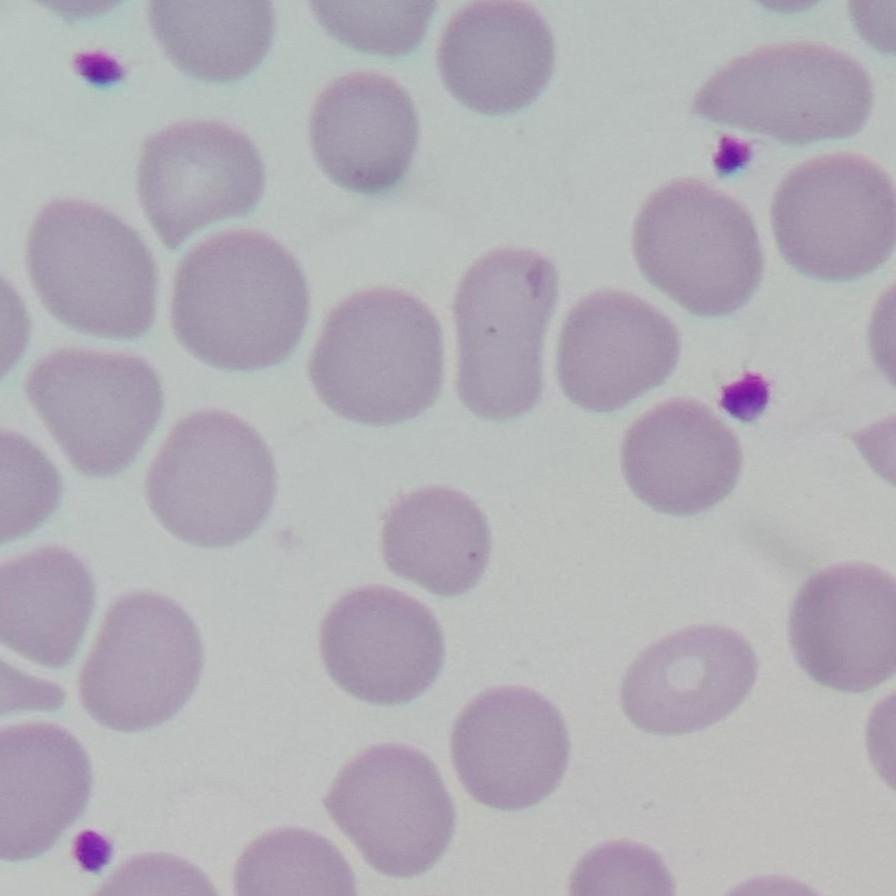Uninfected: (522, 172, 666, 310), (468, 311, 609, 444), (751, 691, 855, 871), (578, 634, 722, 762), (556, 28, 698, 156), (347, 146, 485, 276), (164, 77, 305, 204), (20, 325, 156, 456), (419, 27, 549, 164), (476, 453, 644, 559), (647, 139, 776, 266), (481, 556, 611, 682), (158, 619, 273, 759), (613, 773, 741, 895), (190, 320, 313, 444), (84, 450, 209, 572), (378, 621, 499, 742), (204, 791, 333, 895), (779, 439, 890, 557), (703, 309, 822, 418), (298, 381, 411, 490)
